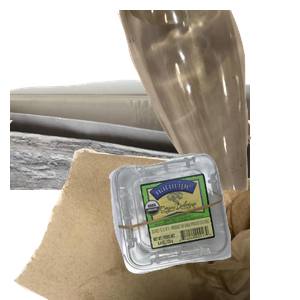glass: (115, 10, 300, 190)
paper: (10, 77, 250, 257)
plastic: (106, 151, 300, 300)
trash: (10, 120, 250, 300)
